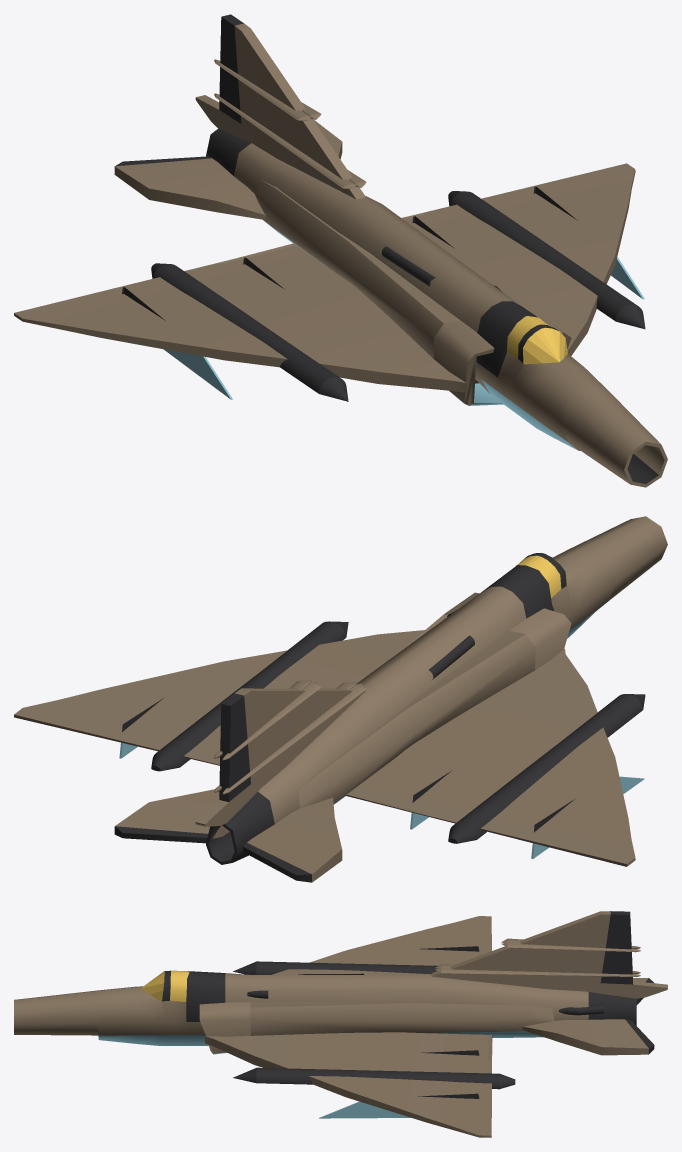
Rendered from Neski.glb.
3 renders of one model, top to bottom at view 1: azimuth 30°, elevation 25°; view 2: azimuth 150°, elevation 25°; view 3: azimuth 270°, elevation 25°, orthographic. The views are drawn at different scales.
Visible parts, largest first — view 1: Cone; view 2: Cone, Details; view 3: Cone, Details.
Boxes of the visible parts, x1,y1,x2,y2 form: Cone: (14, 14, 667, 487); Cone: (14, 516, 667, 882); Details: (428, 610, 474, 679); Cone: (14, 911, 667, 1137); Details: (247, 973, 603, 1015).
Size of the model in its own units: 11.91 by 3.37 by 15.
